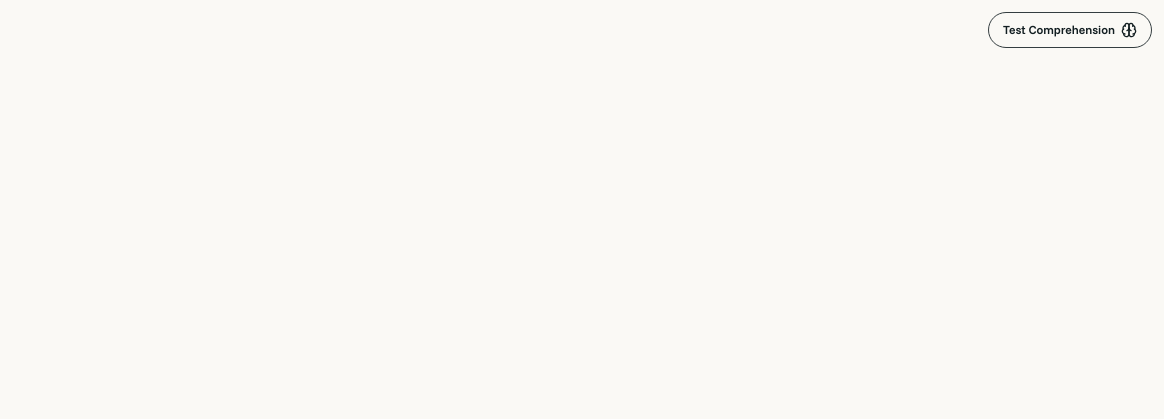
Test: answering a question › counts a right answer
This screenshot has width=1164, height=419.
Click the button "Test Comprehension" at {"x": 1070, "y": 30}, box [988,12,1152,48]
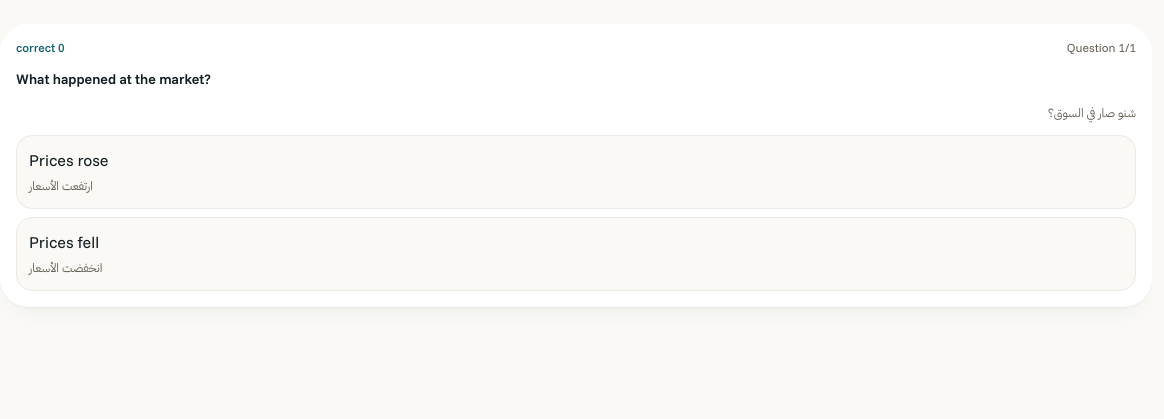
Expected: the text "Question 1/1" is shown, [1067,40,1136,56]
Click the button "Prices rose ارتفعت الأسعار" at {"x": 69, "y": 160}, box [16,135,1136,209]
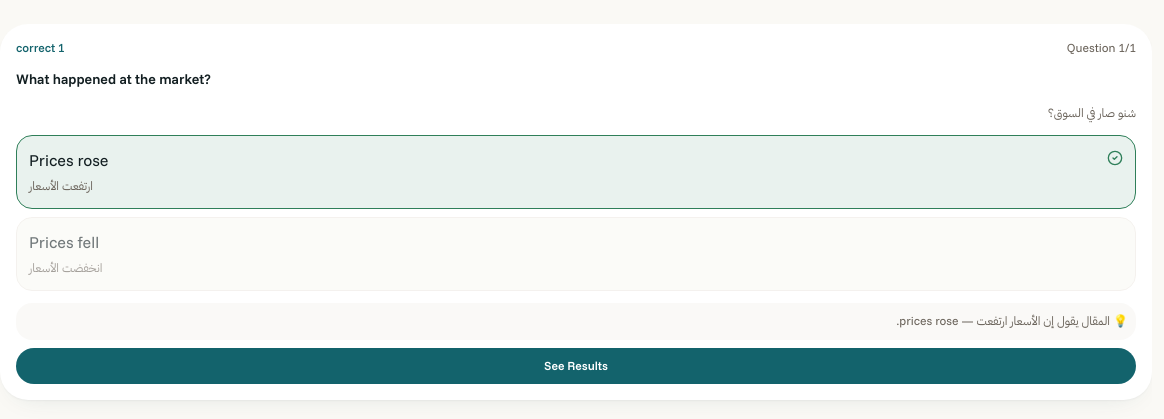
Expected: the text "1 correct" is shown, [16,40,65,56]
